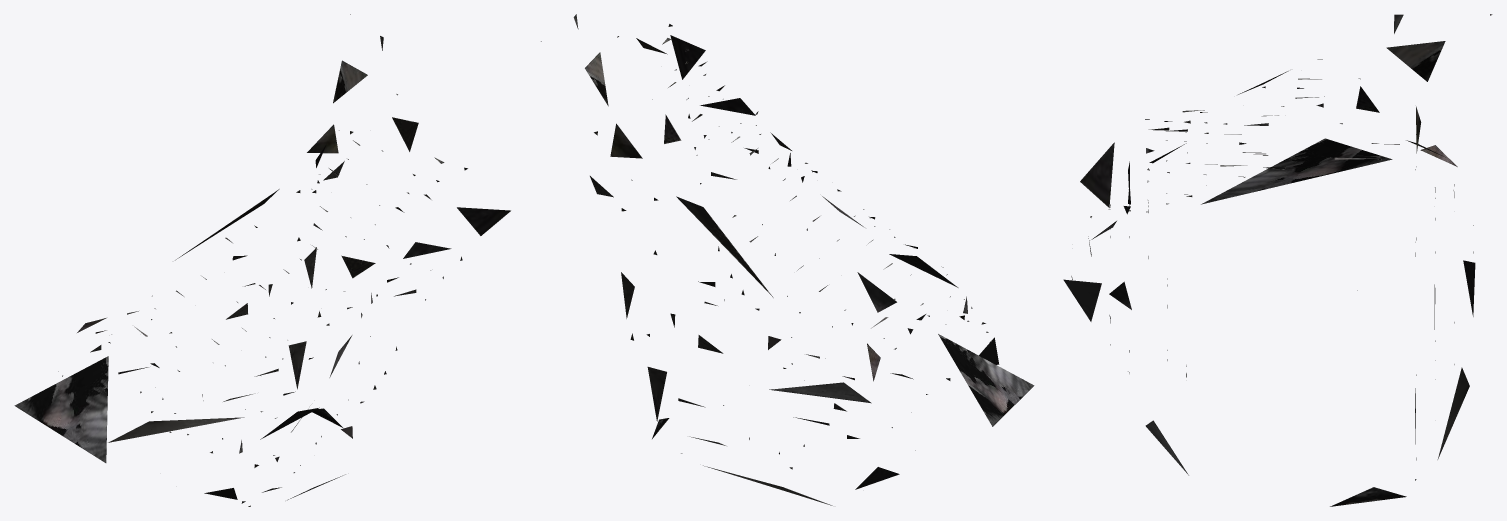
File: stratified_ridge_lod1.glb
3 views of the same model, side by side, from view 1: azimuth 30°, elevation 25°; view 2: azimuth 150°, elevation 25°; view 3: azimuth 270°, elevation 25° (orthographic). The views are drawn at different scales.
Parts seen in each view (by area): view 1: stratified_ridge_lod1; view 2: stratified_ridge_lod1; view 3: stratified_ridge_lod1.
Part boxes in pixels (left/top/right/bottom): stratified_ridge_lod1: left=14, top=14, right=510, bottom=506; stratified_ridge_lod1: left=541, top=14, right=1034, bottom=505; stratified_ridge_lod1: left=1063, top=14, right=1492, bottom=506.
Size of the model in its own units: 0.882 by 0.777 by 0.5619.
1 material, 1 textured.
